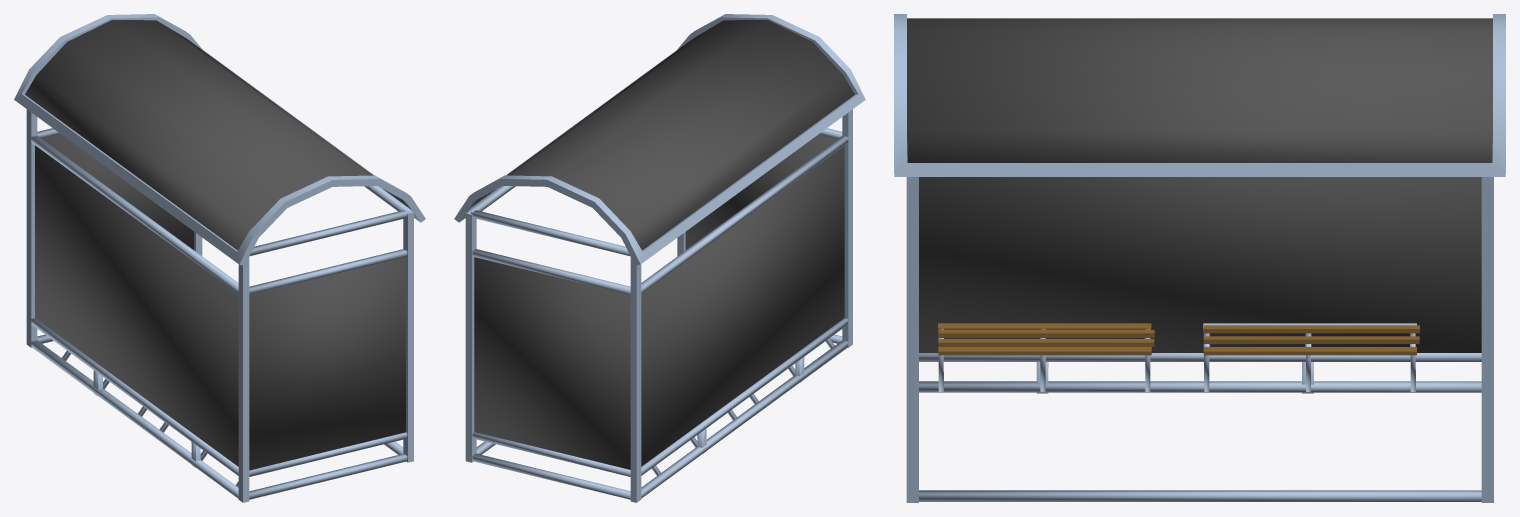
File: busstop.fbx
3 views of the same model, side by side, from view 1: azimuth 30°, elevation 25°; view 2: azimuth 150°, elevation 25°; view 3: azimuth 270°, elevation 25° (orthographic). The views are drawn at different scales.
Parts seen in each view (by area): view 1: model_st1:polySurface33polySurface38; view 2: model_st1:polySurface33polySurface38; view 3: model_st1:polySurface33polySurface38.
Part boxes in pixels (x1,y1,x2,y2): model_st1:polySurface33polySurface38: (14,14,425,502); model_st1:polySurface33polySurface38: (454,14,865,502); model_st1:polySurface33polySurface38: (894,14,1505,502).
Bounding box in the file's own units: 160 × 251 × 335.
1 material, 1 textured.
